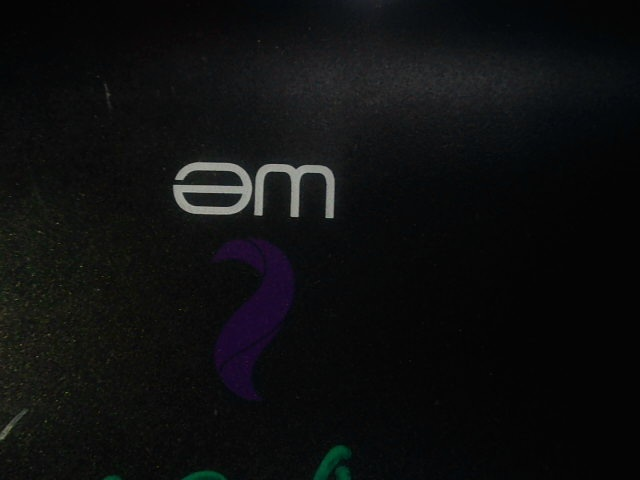AT_We: (158, 150, 344, 400)
